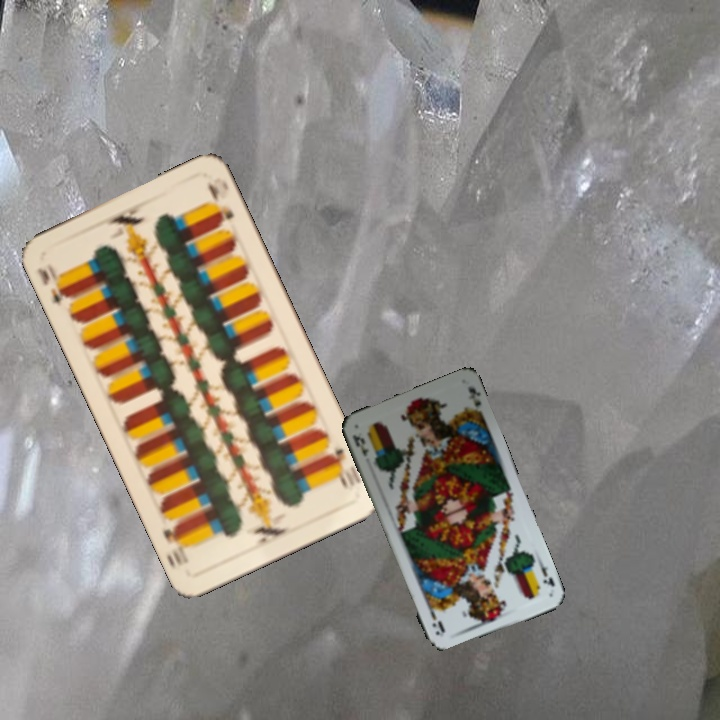E10: (33, 263, 76, 307), (324, 444, 364, 491)
EK: (534, 556, 557, 589), (348, 431, 371, 459)
